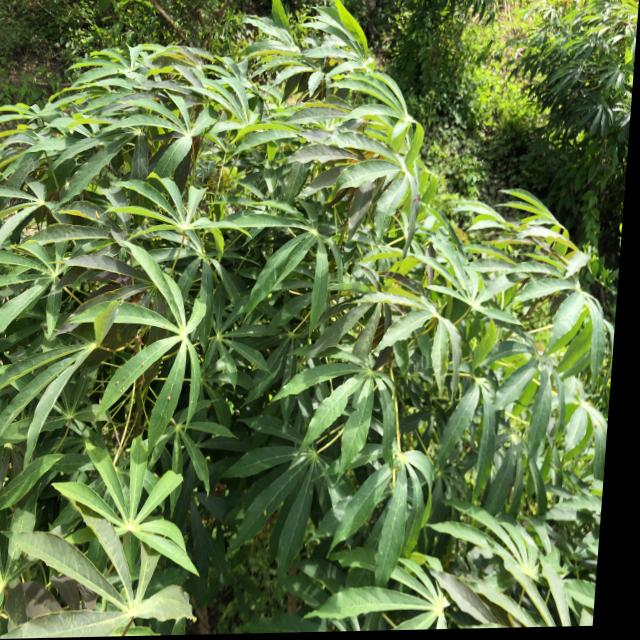Mosca: (295, 256, 321, 287), (160, 383, 181, 412), (101, 374, 128, 394), (256, 501, 278, 524), (140, 355, 156, 378)
